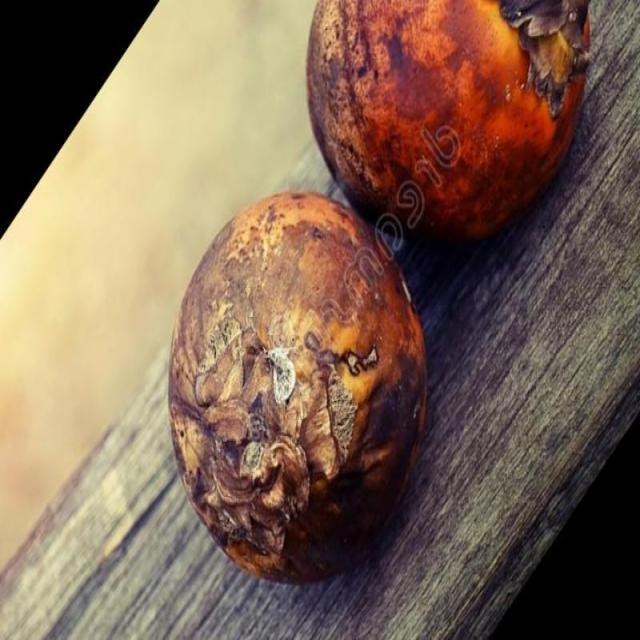damaged: (168, 192, 426, 581), (307, 0, 590, 237)
